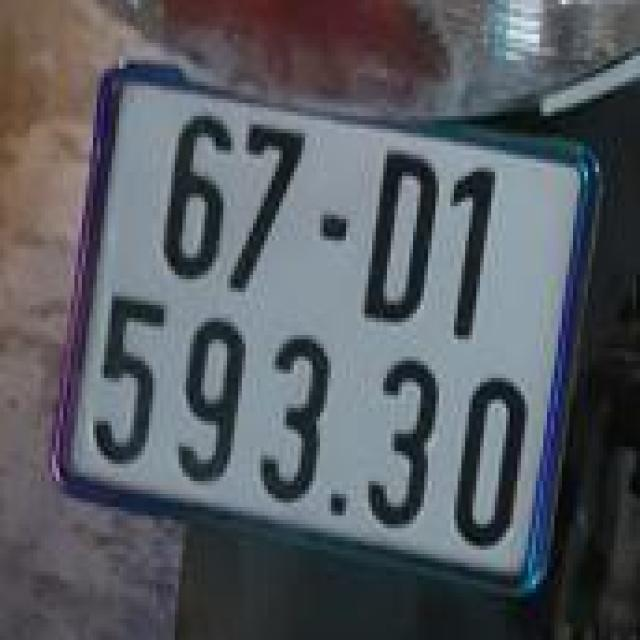0: (444, 364, 533, 566)
1: (431, 159, 501, 352)
3: (361, 347, 447, 543), (253, 325, 339, 517)
5: (83, 282, 171, 477)
6: (152, 107, 238, 293)
7: (218, 116, 315, 312)
9: (167, 307, 252, 496)
D: (355, 141, 447, 339)
